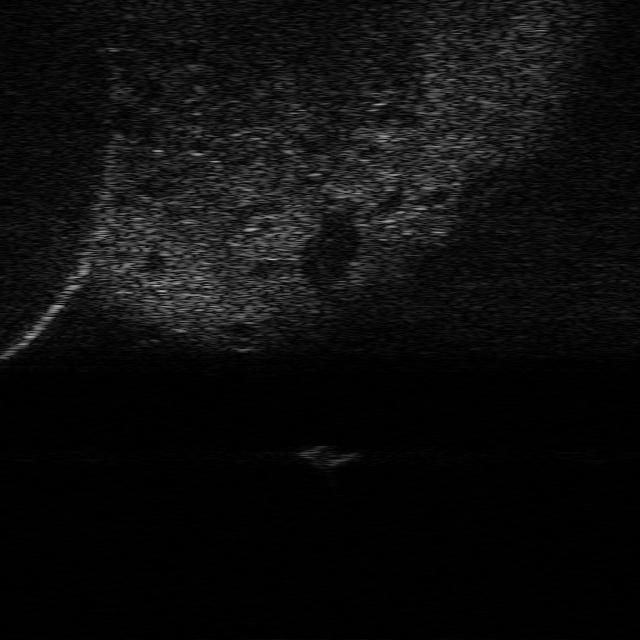cube: (298, 442, 362, 470)
